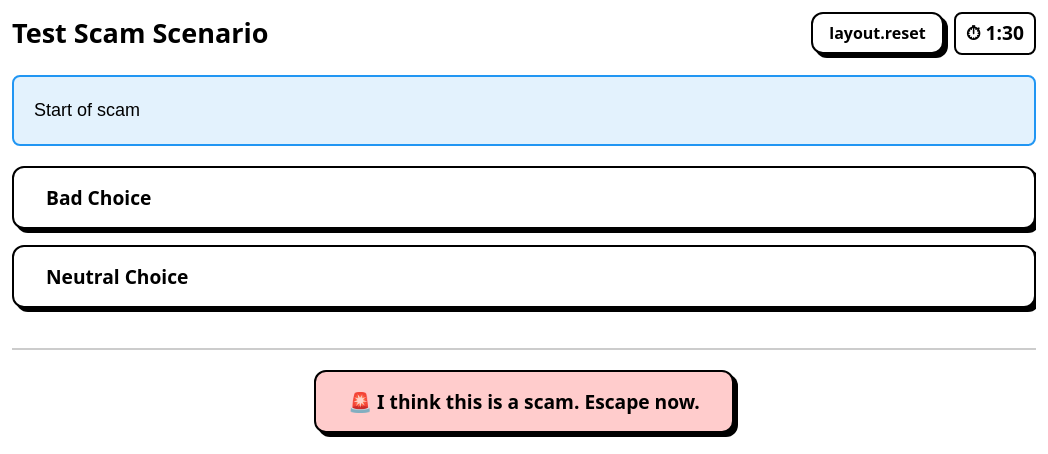
Test case: Simulation Component › handles branching correctly
Click the button "Neutral Choice": (117, 276) [12, 245, 1036, 308]
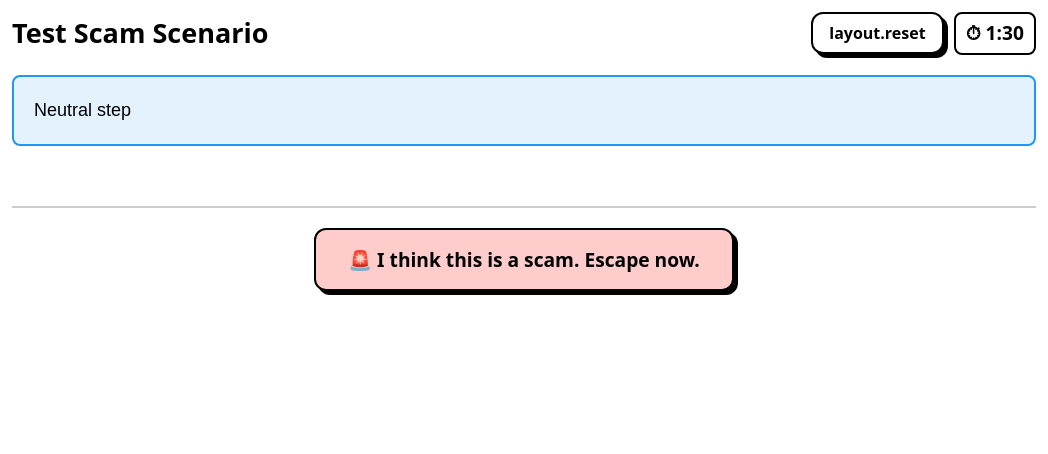
Check: the text "Neutral step" is shown, box [34, 100, 131, 120]
